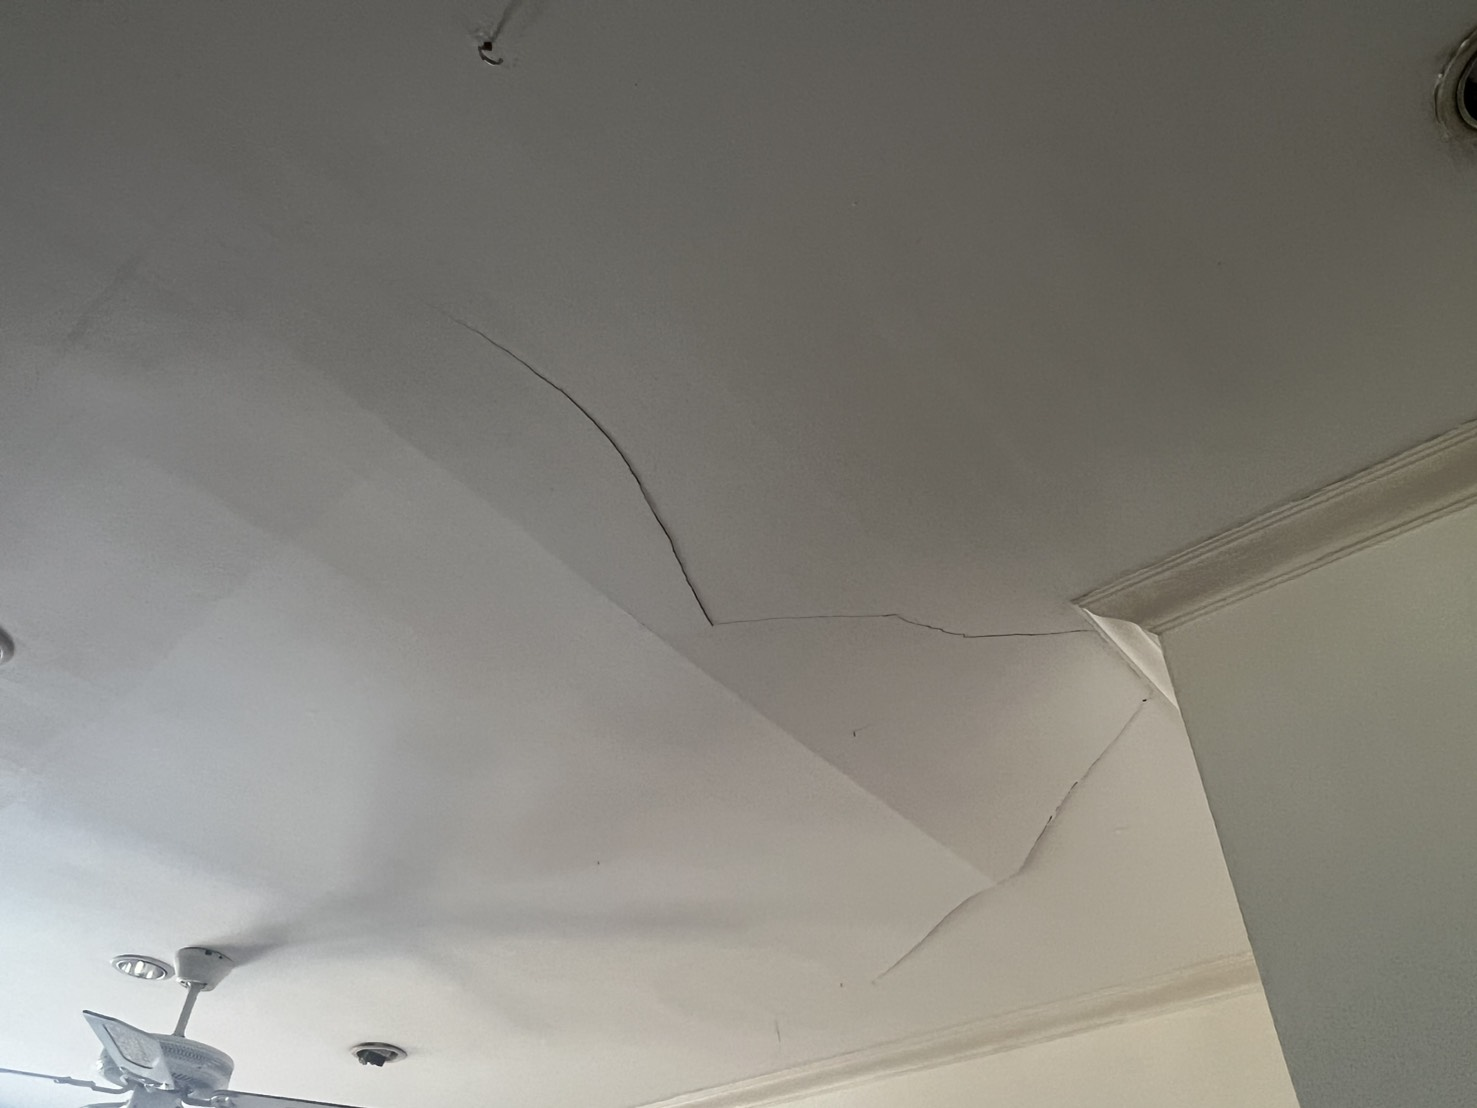Low: (414, 279, 1171, 987)
